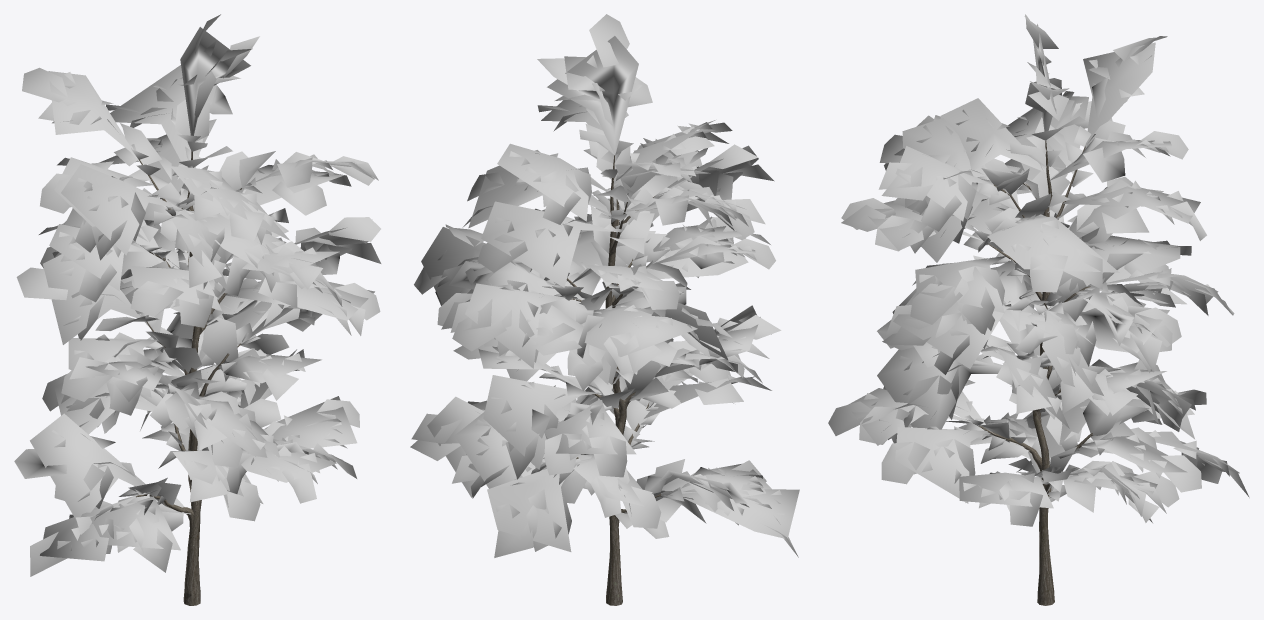
File: Oak_Saplingtest.fbx
3 renders of one model, left to right at view 1: azimuth 30°, elevation 25°; view 2: azimuth 150°, elevation 25°; view 3: azimuth 270°, elevation 25°, orthographic. The views are drawn at different scales.
Parts seen in each view (by area): view 1: Big_Branches_15, Big_Branches_16, Big_Branches_11, Big_Branches, Big_Branches_3, Big_Branches_8, Big_Branches_2, Big_Branches_4, Big_Branches_9, Big_Branches_12, Big_Branches_5, Big_Branches_7 (+5 smaller); view 2: Big_Branches_16, Big_Branches_6, Big_Branches_10, Big_Branches_14, Big_Branches_3, Big_Branches_15, Big_Branches_11, Big_Branches_2, Big_Branches_7, Big_Branches_5, Big_Branches, Big_Branches_8 (+5 smaller); view 3: Big_Branches_2, Big_Branches_5, Big_Branches_16, Big_Branches_12, Big_Branches_4, Big_Branches_3, Big_Branches_13, Big_Branches_6, Big_Branches_14, Big_Branches_8, Big_Branches_10, Big_Branches_9 (+5 smaller).
Boxes of the visible parts, bbox=[...] form: Big_Branches_15: bbox=[14, 413, 194, 576]; Big_Branches_16: bbox=[106, 14, 259, 220]; Big_Branches_11: bbox=[16, 221, 201, 415]; Big_Branches: bbox=[61, 164, 284, 292]; Big_Branches_3: bbox=[22, 67, 216, 252]; Big_Branches_8: bbox=[69, 357, 277, 467]; Big_Branches_2: bbox=[172, 151, 378, 244]; Big_Branches_4: bbox=[121, 241, 342, 327]; Big_Branches_9: bbox=[198, 300, 322, 400]; Big_Branches_12: bbox=[158, 437, 356, 521]; Big_Branches_5: bbox=[199, 217, 381, 335]; Big_Branches_7: bbox=[39, 208, 218, 324]; Big_Branches_16: bbox=[497, 14, 728, 227]; Big_Branches_6: bbox=[449, 261, 697, 374]; Big_Branches_10: bbox=[453, 344, 636, 479]; Big_Branches_14: bbox=[454, 412, 661, 557]; Big_Branches_3: bbox=[477, 161, 754, 287]; Big_Branches_15: bbox=[613, 459, 799, 557]; Big_Branches_11: bbox=[527, 302, 762, 392]; Big_Branches_2: bbox=[462, 77, 732, 253]; Big_Branches_7: bbox=[570, 216, 775, 309]; Big_Branches_5: bbox=[414, 224, 602, 329]; Big_Branches: bbox=[606, 144, 774, 234]; Big_Branches_8: bbox=[623, 305, 781, 415]; Big_Branches_2: bbox=[878, 118, 1119, 292]; Big_Branches_5: bbox=[886, 292, 1181, 413]; Big_Branches_16: bbox=[940, 14, 1188, 215]; Big_Branches_12: bbox=[828, 379, 1042, 503]; Big_Branches_4: bbox=[841, 182, 1042, 334]; Big_Branches_3: bbox=[1048, 36, 1206, 240]; Big_Branches_13: bbox=[959, 446, 1179, 526]; Big_Branches_6: bbox=[1054, 235, 1234, 351]; Big_Branches_14: bbox=[1049, 389, 1249, 497]; Big_Branches_8: bbox=[877, 260, 1036, 429]; Big_Branches_10: bbox=[1035, 359, 1195, 439]; Big_Branches_9: bbox=[882, 333, 1108, 428].
Bounding box in the file's own units: 334 × 505 × 325.
